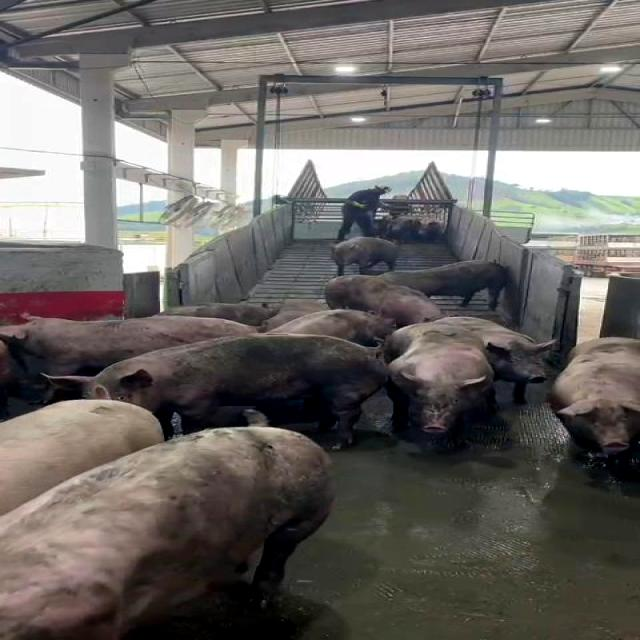pig: (2, 426, 332, 639), (50, 334, 390, 448), (0, 400, 165, 514), (0, 316, 257, 376), (385, 322, 495, 434), (550, 338, 640, 458), (435, 316, 555, 402), (325, 275, 447, 327), (380, 261, 509, 309), (270, 309, 394, 346), (332, 236, 399, 276)
